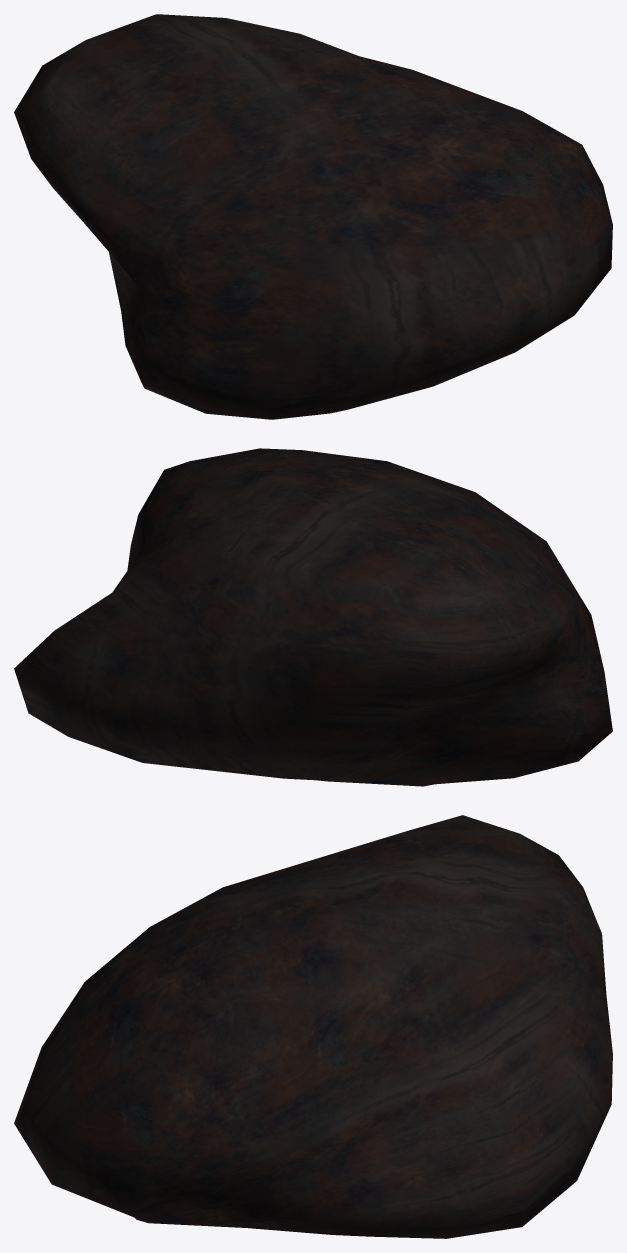
The model's file is rock2.fbx.
The picture shows the model from 3 angles, top to bottom: view 1: azimuth 30°, elevation 25°; view 2: azimuth 150°, elevation 25°; view 3: azimuth 270°, elevation 25°; orthographic projection. The views are drawn at different scales.
Parts seen in each view (by area): view 1: rock2; view 2: rock2; view 3: rock2.
Boxes of the visible parts, x1=… form: rock2: x1=14, y1=14, x2=612, y2=419; rock2: x1=14, y1=448, x2=612, y2=786; rock2: x1=14, y1=815, x2=612, y2=1238.
Bounding box in the file's own units: 106 × 64.22 × 110.
